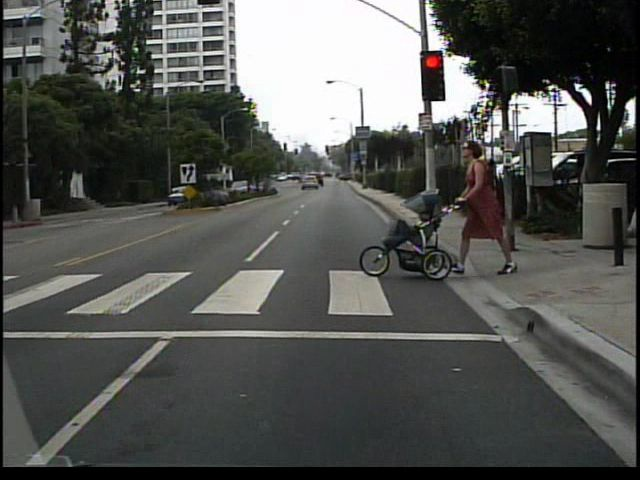person: (454, 139, 525, 280)
